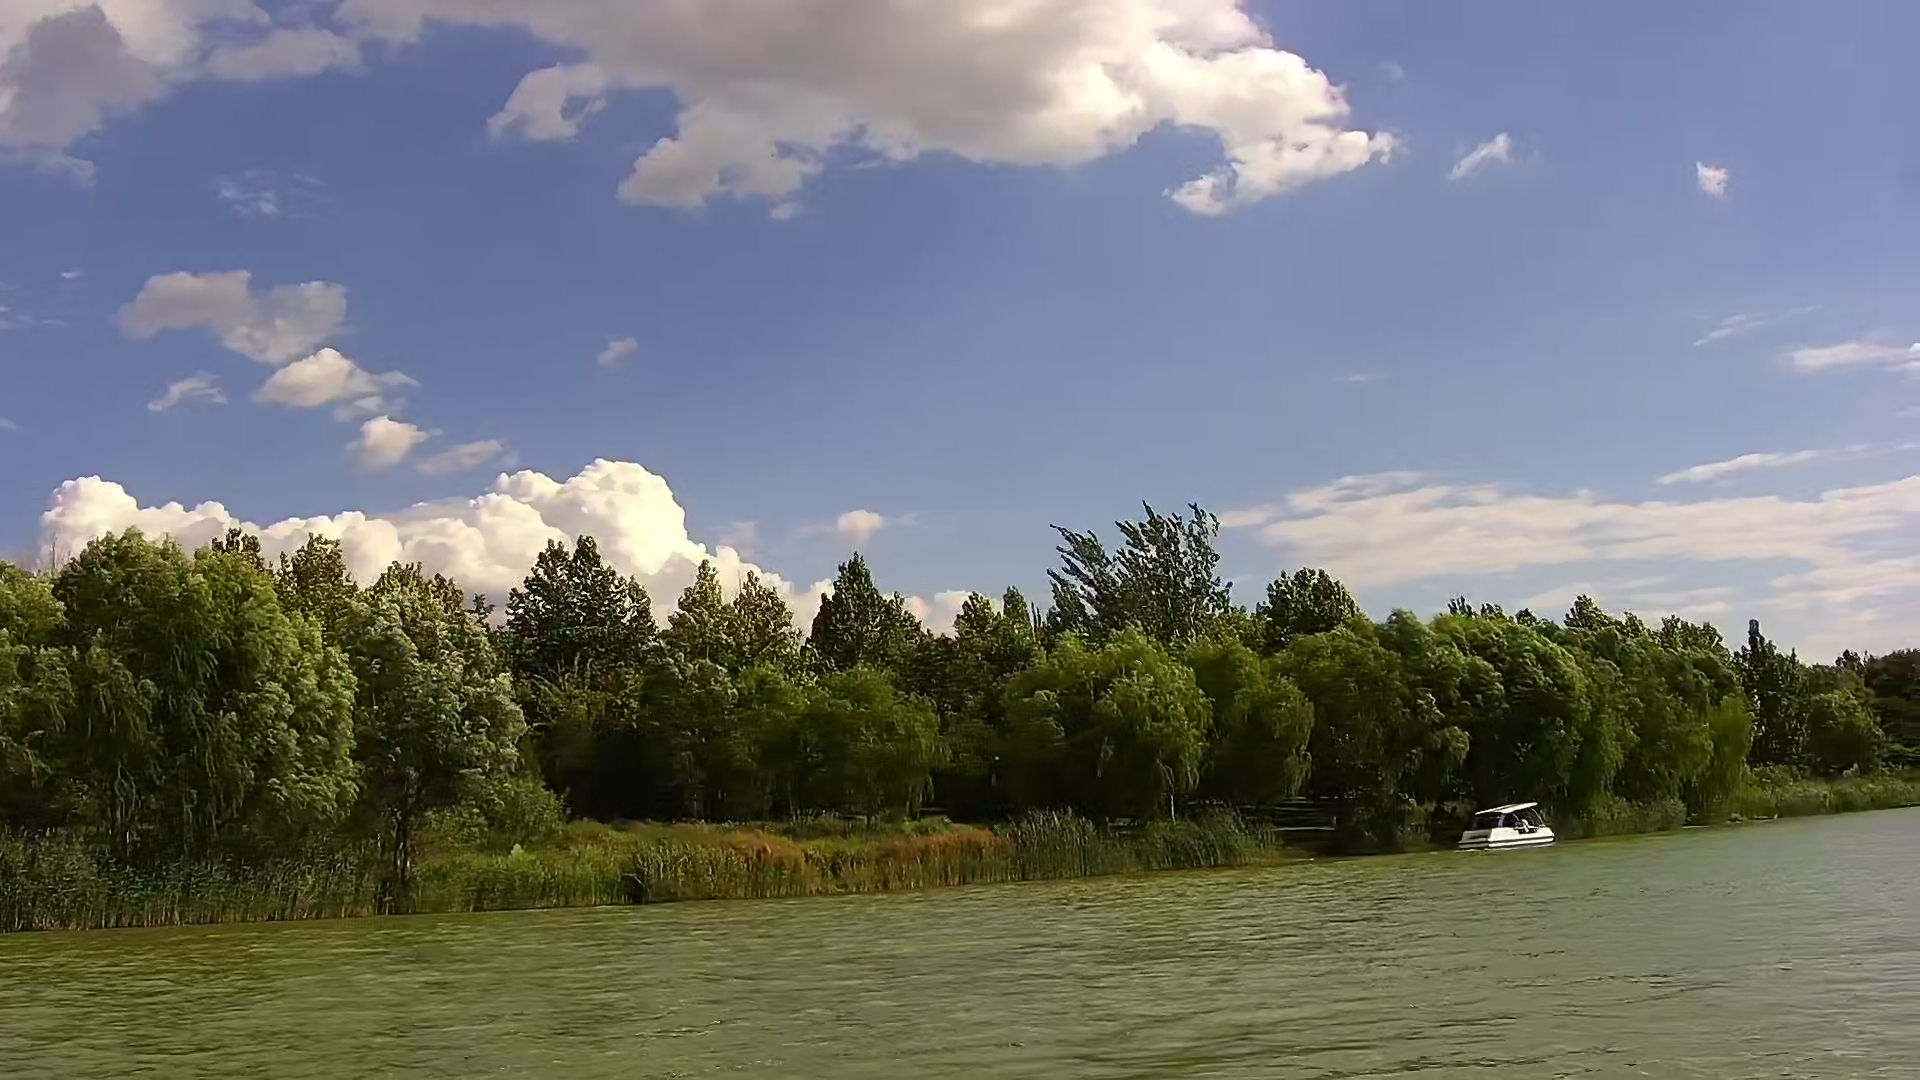boat: (1458, 800, 1553, 851)
